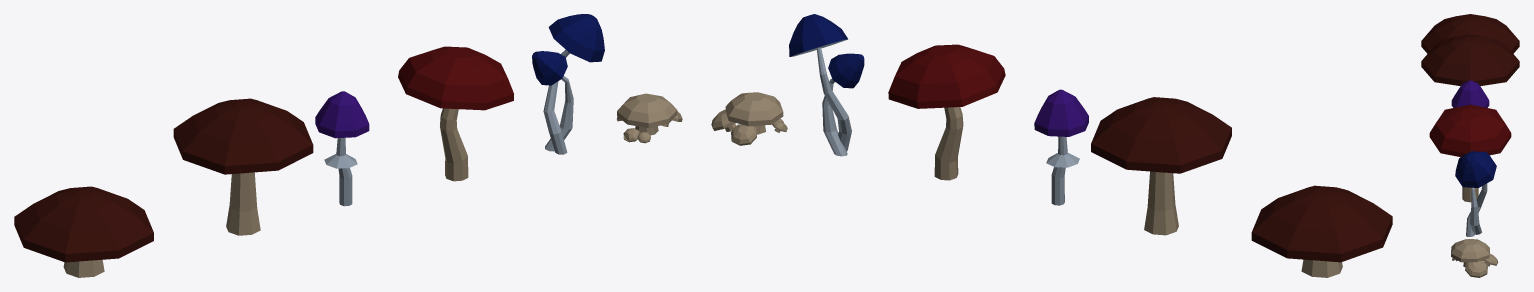
File: mushrooms.obj
3 views of the same model, side by side, from view 1: azimuth 30°, elevation 25°; view 2: azimuth 150°, elevation 25°; view 3: azimuth 270°, elevation 25° (orthographic). The views are drawn at different scales.
Visible parts, largest first — view 1: mushroom.003_Plane.002, mushroom.005_Plane.010, mushroom.001_Plane, mushroom.004_Plane.003, mushroom.002_Plane.001, mushroom_Plane.007; view 2: mushroom.003_Plane.002, mushroom.005_Plane.010, mushroom.001_Plane, mushroom.004_Plane.003, mushroom.002_Plane.001, mushroom_Plane.007; view 3: mushroom.003_Plane.002, mushroom.001_Plane, mushroom.005_Plane.010, mushroom.004_Plane.003, mushroom_Plane.007, mushroom.002_Plane.001.
Boxes of the visible parts, left/top/right/bottom form: mushroom.003_Plane.002: left=173, top=98, right=313, bottom=235; mushroom.005_Plane.010: left=14, top=186, right=153, bottom=277; mushroom.001_Plane: left=398, top=46, right=513, bottom=181; mushroom.004_Plane.003: left=532, top=14, right=604, bottom=154; mushroom.002_Plane.001: left=315, top=91, right=369, bottom=206; mushroom_Plane.007: left=617, top=93, right=682, bottom=143; mushroom.003_Plane.002: left=1091, top=97, right=1231, bottom=235; mushroom.005_Plane.010: left=1251, top=185, right=1392, bottom=277; mushroom.001_Plane: left=888, top=44, right=1005, bottom=180; mushroom.004_Plane.003: left=789, top=14, right=864, bottom=156; mushroom.002_Plane.001: left=1034, top=89, right=1088, bottom=205; mushroom_Plane.007: left=711, top=92, right=787, bottom=145; mushroom.003_Plane.002: left=1421, top=34, right=1519, bottom=85; mushroom.001_Plane: left=1429, top=104, right=1511, bottom=202; mushroom.005_Plane.010: left=1421, top=14, right=1519, bottom=53; mushroom.004_Plane.003: left=1455, top=151, right=1496, bottom=236; mushroom_Plane.007: left=1451, top=239, right=1498, bottom=277; mushroom.002_Plane.001: left=1451, top=80, right=1489, bottom=107.
Bounding box in the file's own units: 1.07 × 0.2073 × 0.1965.
